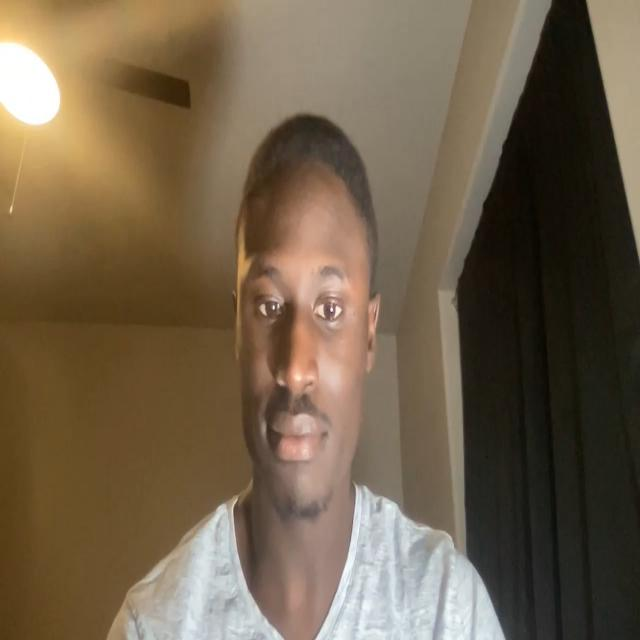face: (227, 118, 381, 527)
